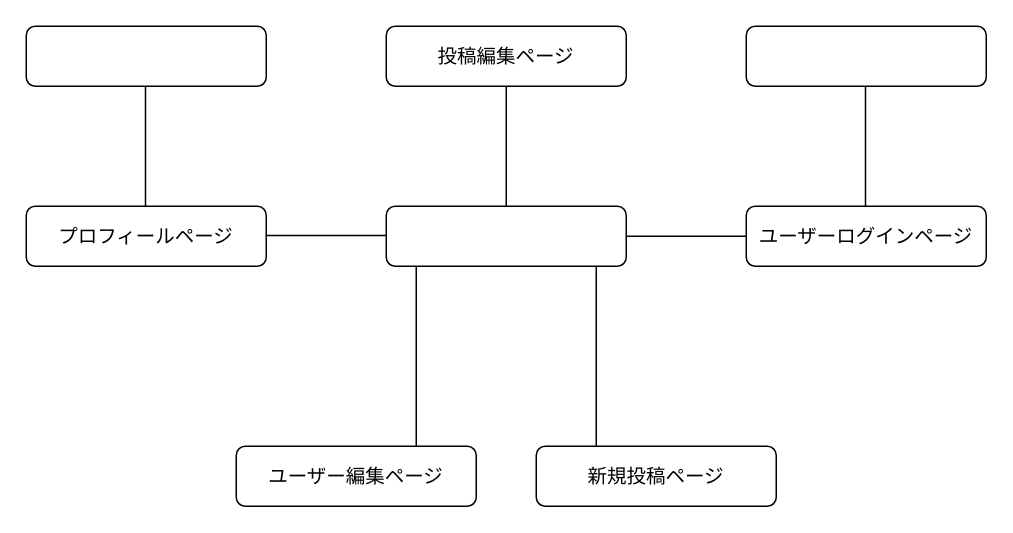
This 1013x533 diagram has some shape labels left out. The box of each missing label's shape, as (x1, y1, x2, y2) in pixels:
トップページ: (385, 205, 626, 266)
プロフィール編集ページ: (25, 25, 266, 86)
ユーザー新規登録ページ: (745, 25, 986, 86)
